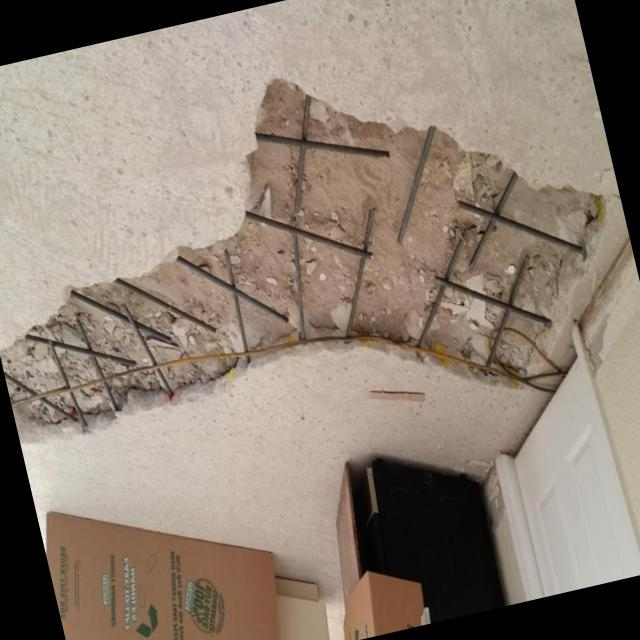spalling: (2, 78, 604, 439)
